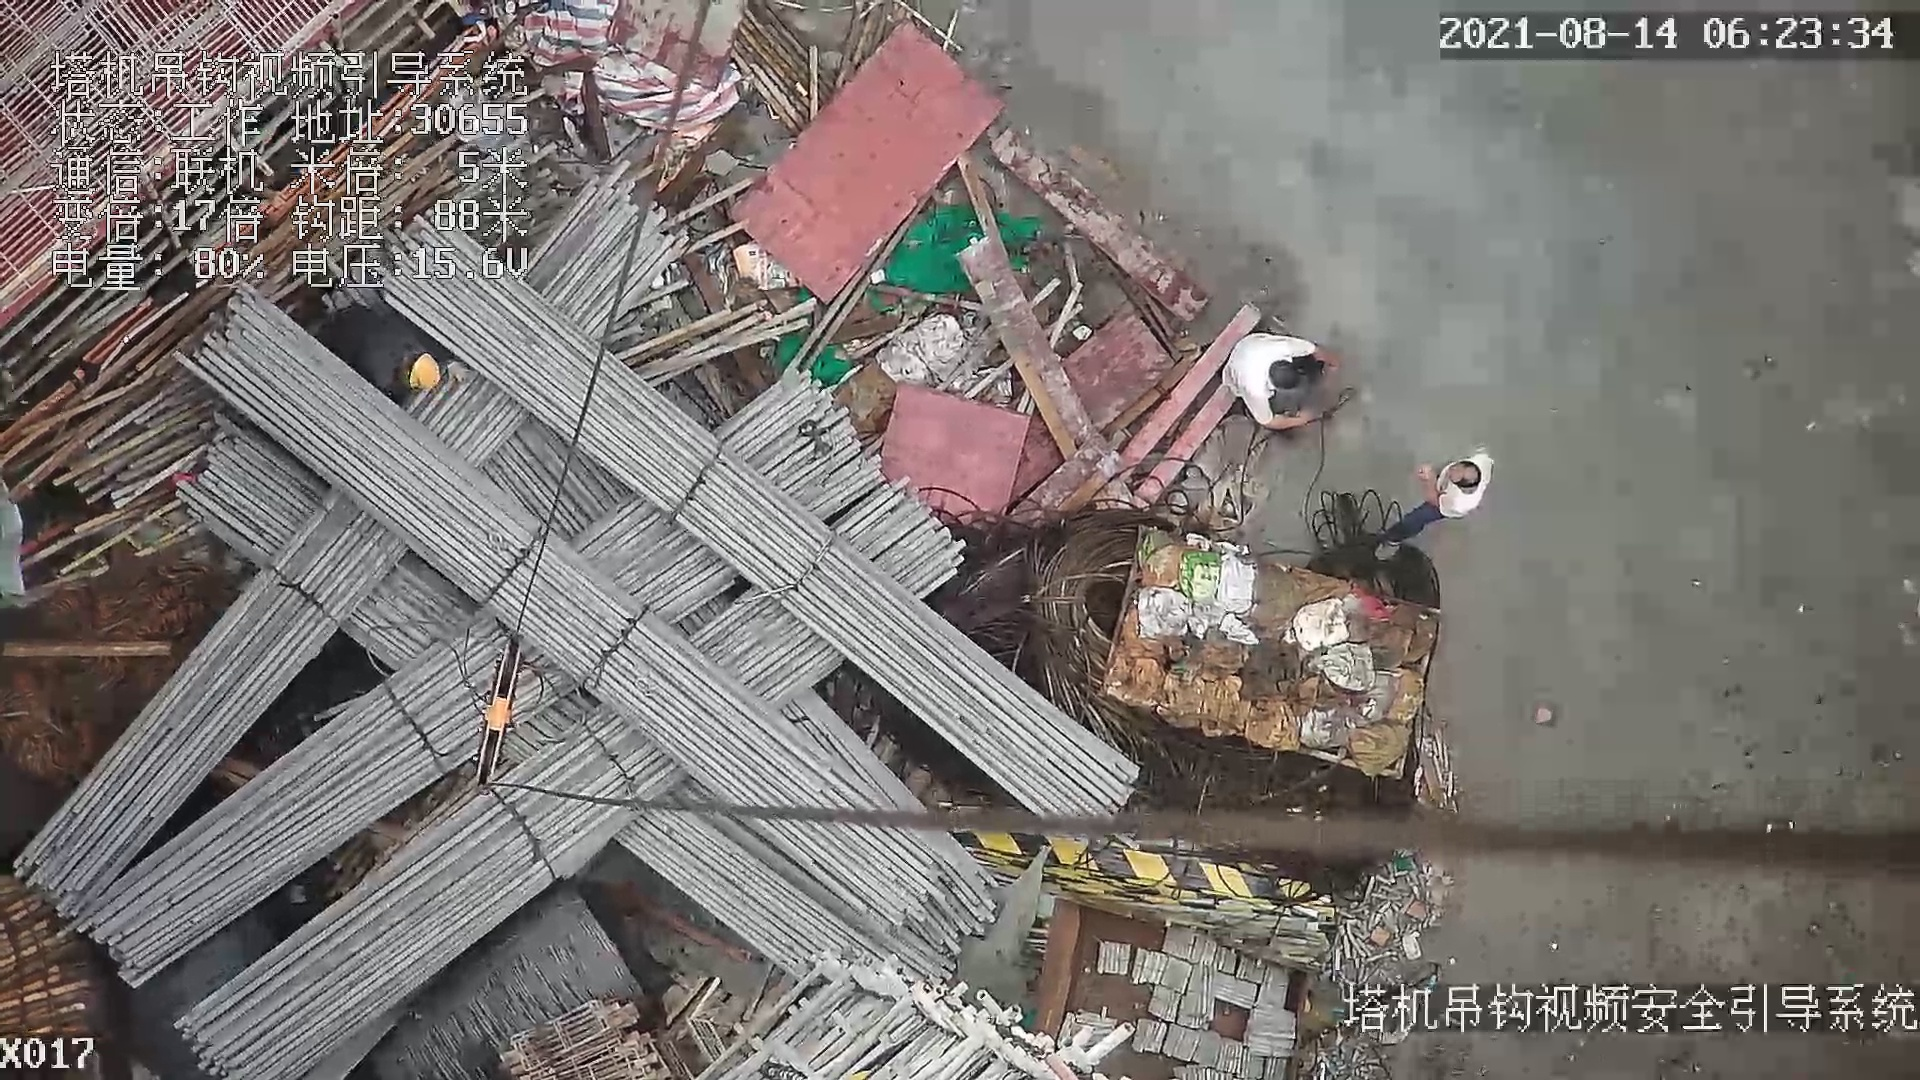helmet: (404, 350, 443, 391)
hook: (472, 628, 536, 796)
person: (1376, 435, 1492, 560), (1222, 331, 1346, 431), (351, 331, 462, 410)
rebar: (175, 288, 935, 924), (367, 291, 1138, 816), (23, 483, 405, 916), (174, 734, 632, 1080), (85, 664, 469, 981)
wood: (1, 872, 96, 1028)
